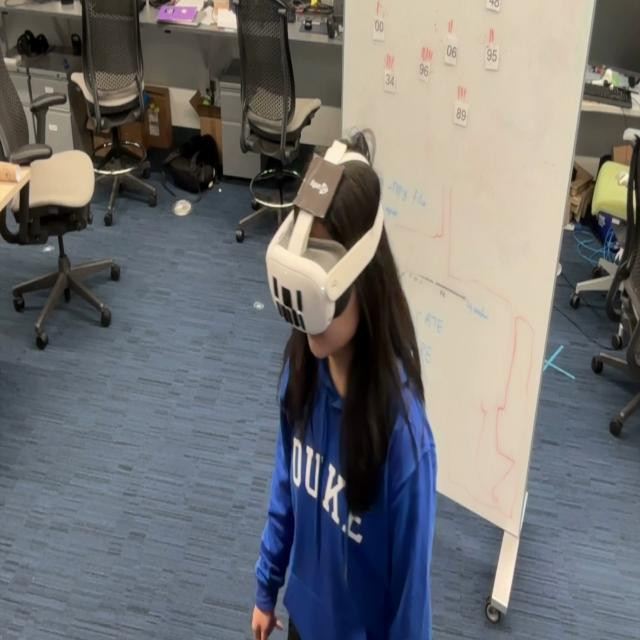Headset: (264, 128, 385, 337)
UnityLogo: (292, 151, 345, 222)
